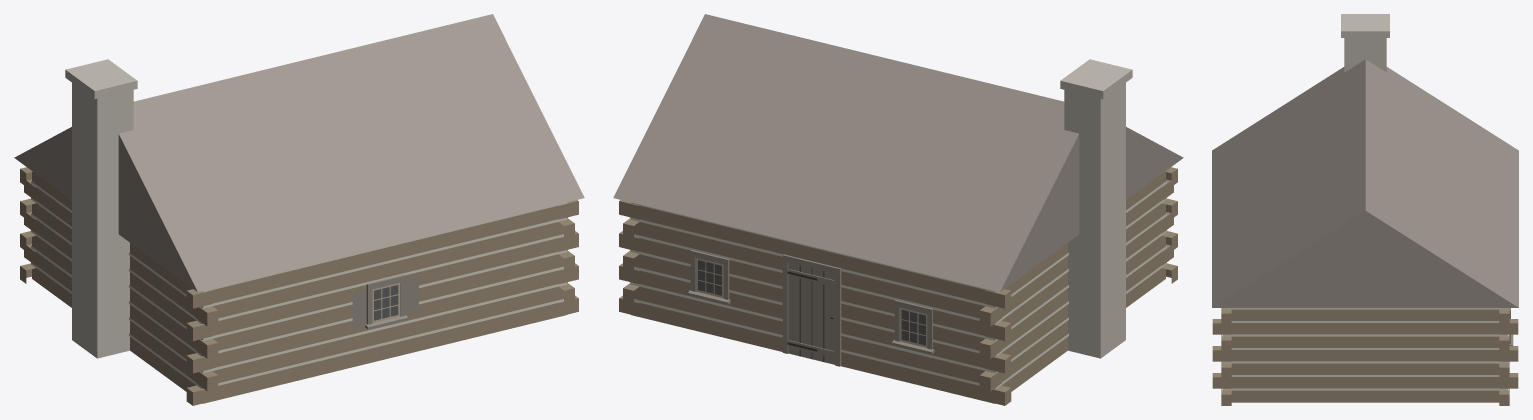
File: james_kinzie_house__dwelling_1830.glb
The picture shows the model from 3 angles, left to right: view 1: azimuth 30°, elevation 25°; view 2: azimuth 150°, elevation 25°; view 3: azimuth 270°, elevation 25°; orthographic projection. The views are drawn at different scales.
Parts seen in each view (by area): view 1: james_kinzie_house__dwelling_1830; view 2: james_kinzie_house__dwelling_1830; view 3: james_kinzie_house__dwelling_1830.
Boxes of the visible parts, x1,y1,x2,y2 form: james_kinzie_house__dwelling_1830: (14, 14, 584, 405); james_kinzie_house__dwelling_1830: (613, 14, 1183, 405); james_kinzie_house__dwelling_1830: (1212, 14, 1518, 405).
Size of the model in its own units: 9.07 by 5.67 by 7.
